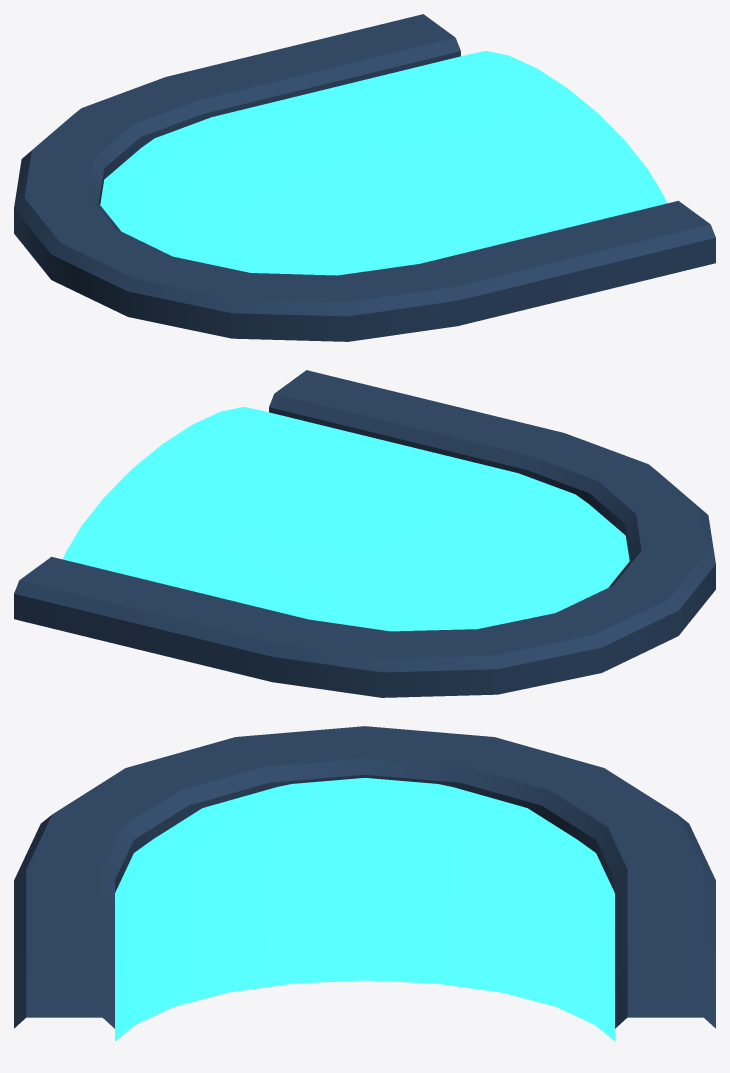
File: Light_Trim_01_RoundShortEnd.fbx
The picture shows the model from 3 angles, top to bottom: view 1: azimuth 30°, elevation 25°; view 2: azimuth 150°, elevation 25°; view 3: azimuth 270°, elevation 25°; orthographic projection. The views are drawn at different scales.
Visible parts, largest first — view 1: Light_Trim_01_RoundShortEnd.001; view 2: Light_Trim_01_RoundShortEnd.001; view 3: Light_Trim_01_RoundShortEnd.001.
Part boxes in pixels (bbox=[...]): Light_Trim_01_RoundShortEnd.001: bbox=[14, 14, 715, 341]; Light_Trim_01_RoundShortEnd.001: bbox=[14, 370, 715, 697]; Light_Trim_01_RoundShortEnd.001: bbox=[14, 726, 715, 1041].
Size of the model in its own units: 0.1 by 0.0123 by 0.1.
